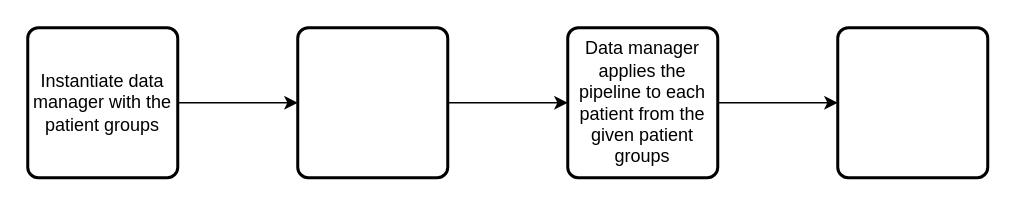
Some shapes in this 1014 by 204 pixel diagram are drawn without their labels. Here are the shapes that lost their labels. From the top down, the centre of each, then its label:
At (x=372, y=102): "Data manger generates a pipeline which the data will be pushed through".
At (x=912, y=102): "The results are saved in a variable in the data manager".
